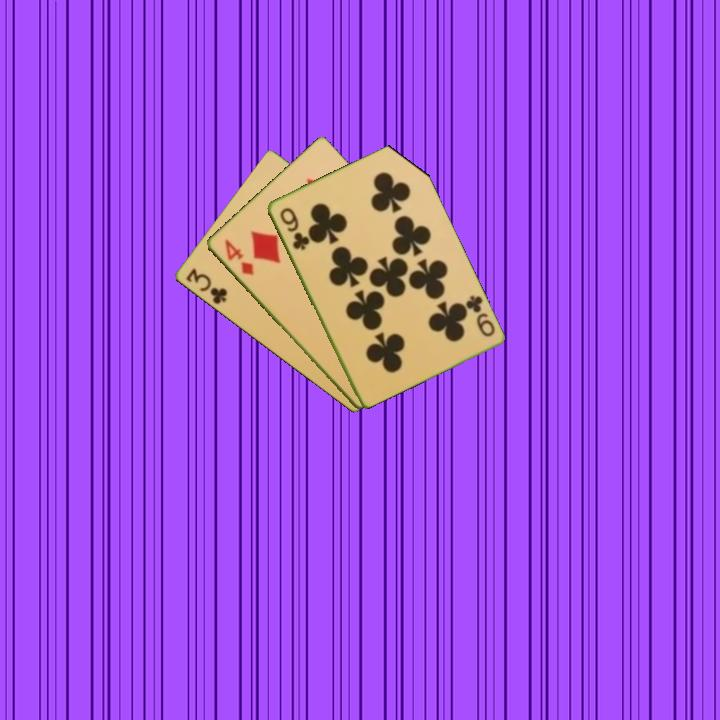3c: (182, 265, 230, 307)
4d: (220, 236, 256, 278)
9c: (276, 204, 311, 253), (462, 292, 497, 340)
